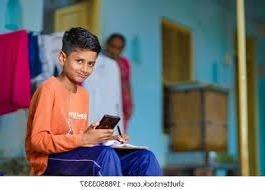Human: (26, 22, 145, 174)
